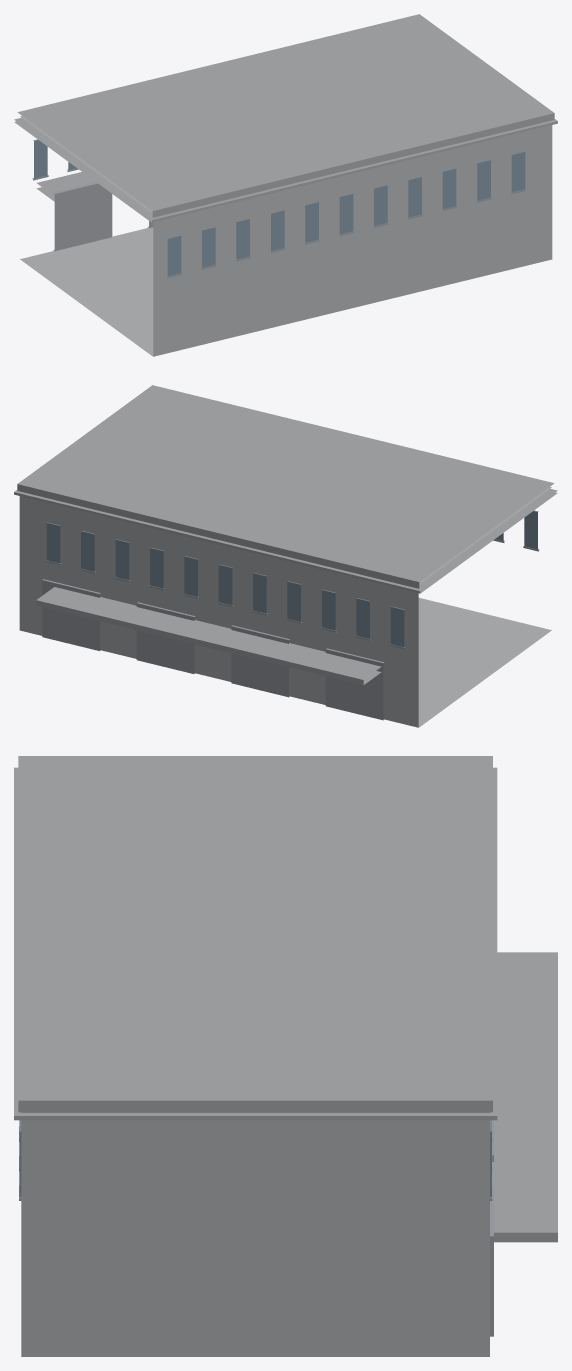
Rendered from warehouse_modern.glb.
3 renders of one model, top to bottom at view 1: azimuth 30°, elevation 25°; view 2: azimuth 150°, elevation 25°; view 3: azimuth 270°, elevation 25°, orthographic. The views are drawn at different scales.
Visible parts, largest first — view 1: warehouse_modern; view 2: warehouse_modern; view 3: warehouse_modern.
Boxes of the visible parts, box(x1,y1,x2,y2) form: warehouse_modern: box(14, 14, 557, 356); warehouse_modern: box(14, 385, 557, 727); warehouse_modern: box(14, 756, 557, 1356).
Size of the model in its own units: 38.7 by 13.35 by 25.55.
